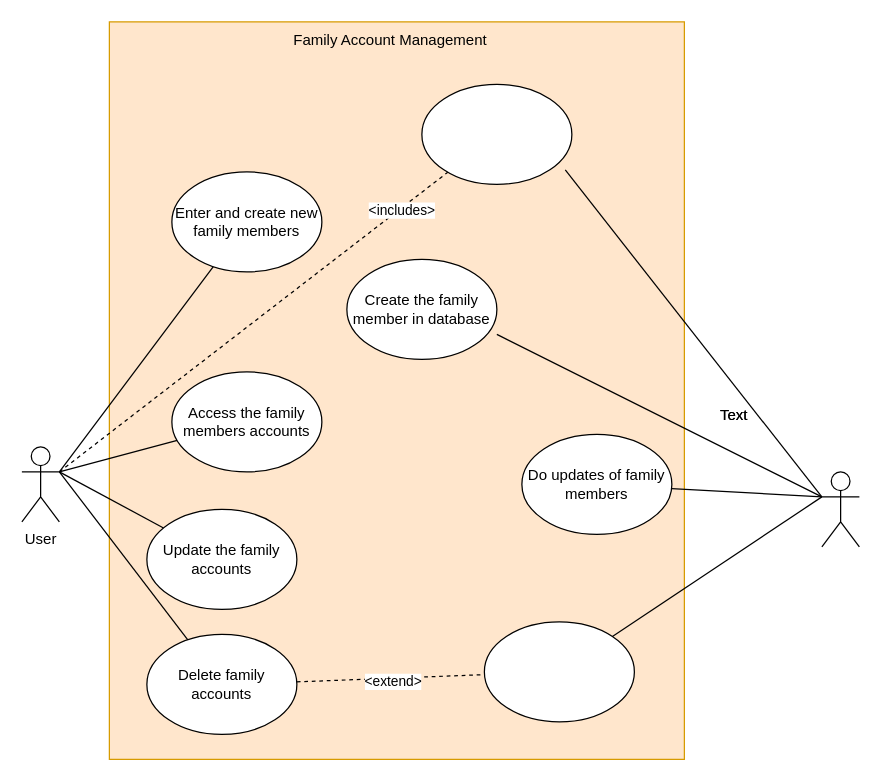
This 888x781 diagram has some shape labels left out. The shapes that lost their labels are listed below. From the top down, each one's centre as x and y in pixels, then its label:
At (496,133): "Validate the main user".
At (840,509): "System".
At (558,671): "Delete accounts".
